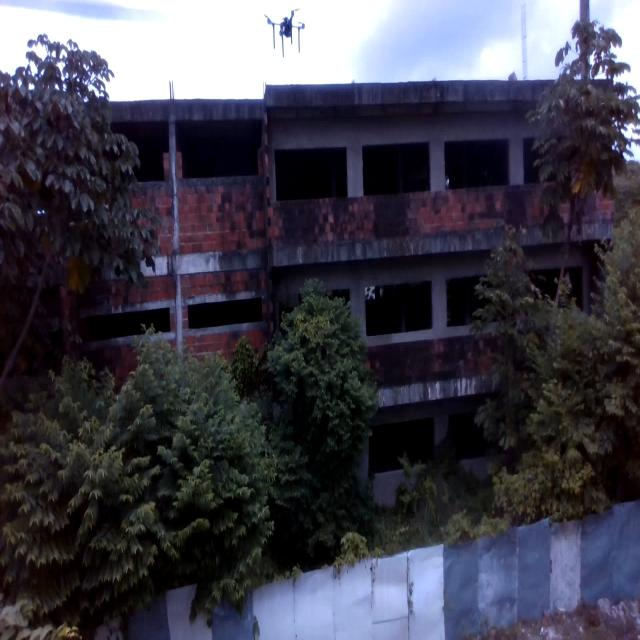-uav-: (256, 0, 317, 68)
